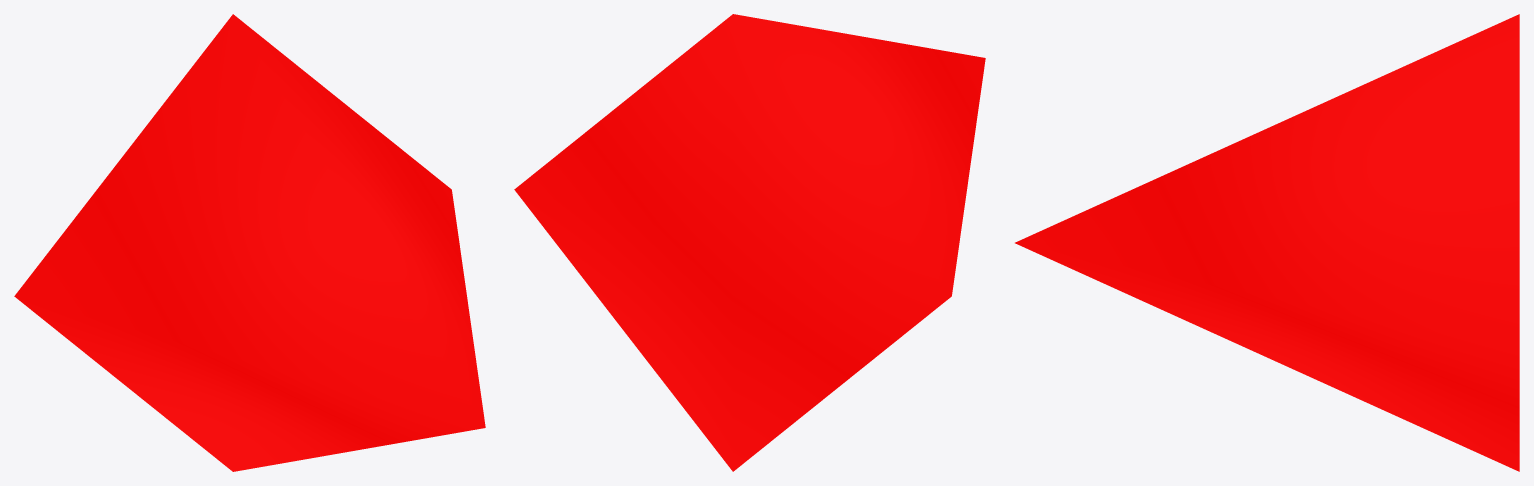
The model's file is emissive-pyramid-x3.glb.
3 renders of one model, left to right at view 1: azimuth 30°, elevation 25°; view 2: azimuth 150°, elevation 25°; view 3: azimuth 270°, elevation 25°, orthographic.
Parts seen in each view (by area): view 1: world; view 2: world; view 3: world.
Boxes of the visible parts, <box> form: world: <box>14,14,485,471</box>; world: <box>514,14,985,471</box>; world: <box>1015,14,1519,471</box>.
Size of the model in its own units: 1.2 by 1.2 by 1.2.
